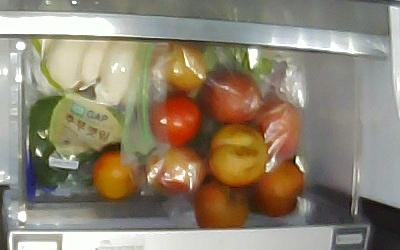prune: (208, 123, 266, 185), (242, 158, 304, 216), (195, 178, 251, 226), (94, 150, 142, 199)
prune_vinyl: (200, 71, 261, 125), (253, 100, 302, 164), (147, 144, 206, 195), (149, 95, 202, 150), (149, 48, 205, 100)
